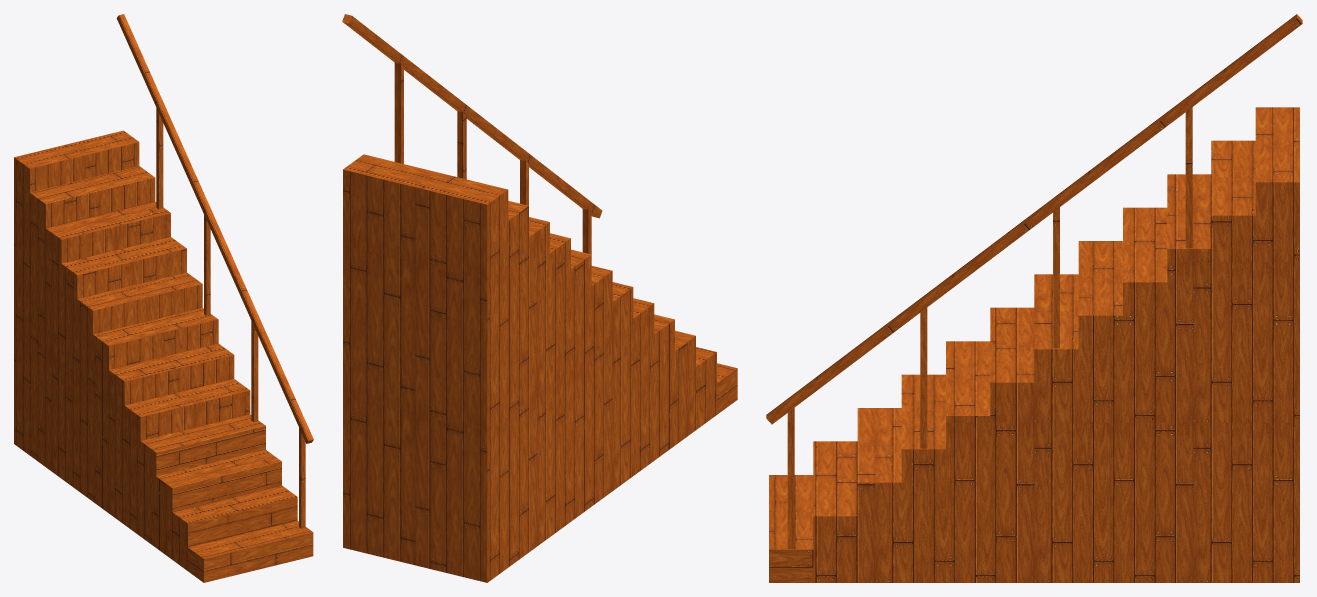
File: Stairs_Interior.fbx
3 renders of one model, left to right at view 1: azimuth 30°, elevation 25°; view 2: azimuth 150°, elevation 25°; view 3: azimuth 270°, elevation 25°, orthographic. The views are drawn at different scales.
Visible parts, largest first — view 1: Stairs_Interior; view 2: Stairs_Interior; view 3: Stairs_Interior.
Boxes of the visible parts, x1,y1,x2,y2 form: Stairs_Interior: [14, 14, 313, 582]; Stairs_Interior: [342, 14, 737, 582]; Stairs_Interior: [766, 14, 1302, 582].
Size of the model in its own units: 1 by 3.52 by 3.03.
